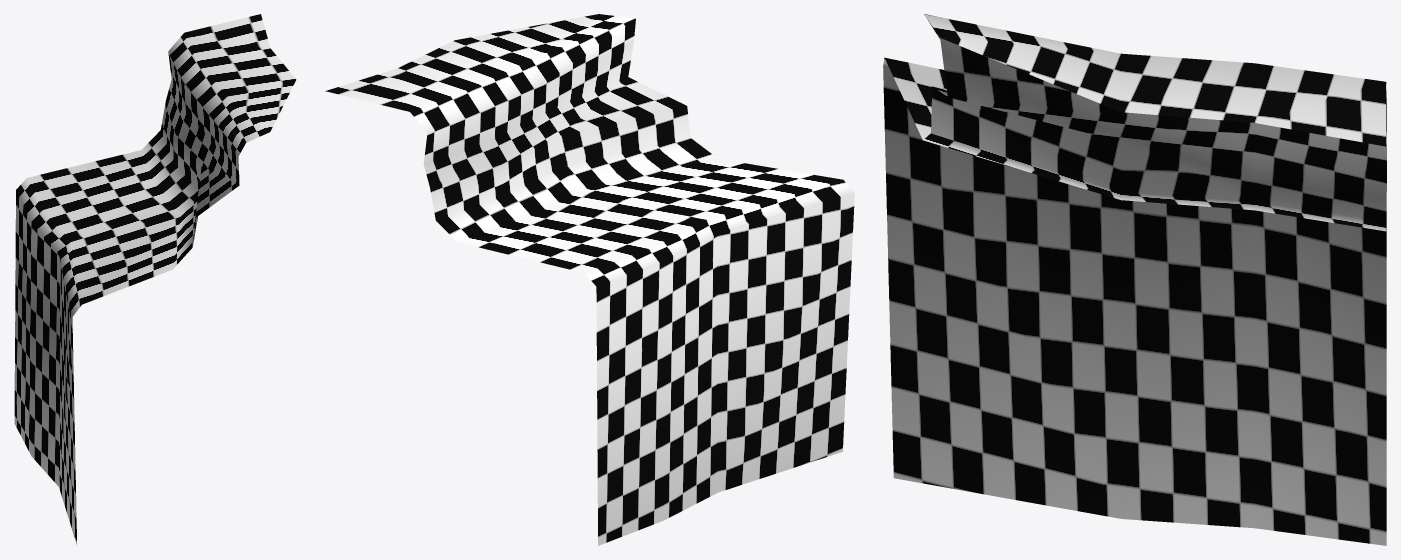
File: waterfall1.fbx
3 views of the same model, side by side, from view 1: azimuth 30°, elevation 25°; view 2: azimuth 150°, elevation 25°; view 3: azimuth 270°, elevation 25° (orthographic). The views are drawn at different scales.
Parts seen in each view (by area): view 1: Waterfall1; view 2: Waterfall1; view 3: Waterfall1.
Part boxes in pixels (x1,y1,x2,y2): Waterfall1: [14, 14, 296, 545]; Waterfall1: [325, 14, 854, 545]; Waterfall1: [883, 14, 1386, 545].
Bounding box in the file's own units: 3251 × 2448 × 3306.
